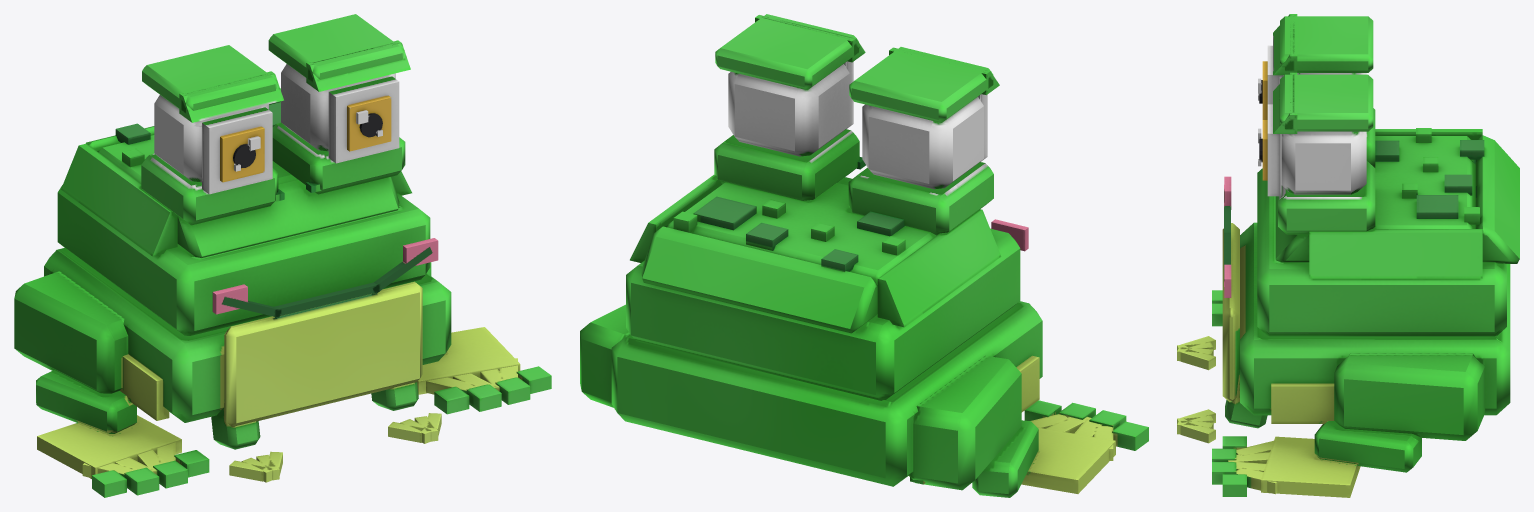
File: GrenouilleGlobuleuse_Rig.fbx
3 views of the same model, side by side, from view 1: azimuth 30°, elevation 25°; view 2: azimuth 150°, elevation 25°; view 3: azimuth 270°, elevation 25° (orthographic). The views are drawn at different scales.
Visible parts, largest first — view 1: Body, Head, LegBR, LegBL, ArmR, ArmL; view 2: Body, Head, LegBR, LegBL; view 3: Body, Head, LegBL, ArmL, ArmR, LegBR.
Part boxes in pixels (left/top/right/bottom): Body: left=44, top=88, right=451, bottom=427; Head: left=141, top=14, right=410, bottom=225; LegBR: left=14, top=271, right=209, bottom=497; LegBL: left=417, top=262, right=551, bottom=414; ArmR: left=211, top=399, right=282, bottom=482; ArmL: left=371, top=382, right=441, bottom=443; Body: left=611, top=157, right=1042, bottom=486; Head: left=714, top=14, right=999, bottom=235; LegBR: left=908, top=355, right=1148, bottom=497; LegBL: left=580, top=304, right=629, bottom=407; Body: left=1222, top=128, right=1519, bottom=423; Head: left=1258, top=14, right=1375, bottom=234; LegBL: left=1212, top=353, right=1485, bottom=497; ArmL: left=1177, top=373, right=1267, bottom=443; ArmR: left=1177, top=336, right=1215, bottom=370; LegBR: left=1212, top=290, right=1222, bottom=326.
Bounding box in the file's own units: 8.08 × 6 × 5.65.
1 material, 1 textured.
